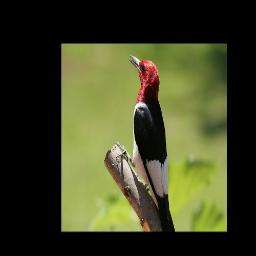Woodpecker: (125, 52, 177, 231)
